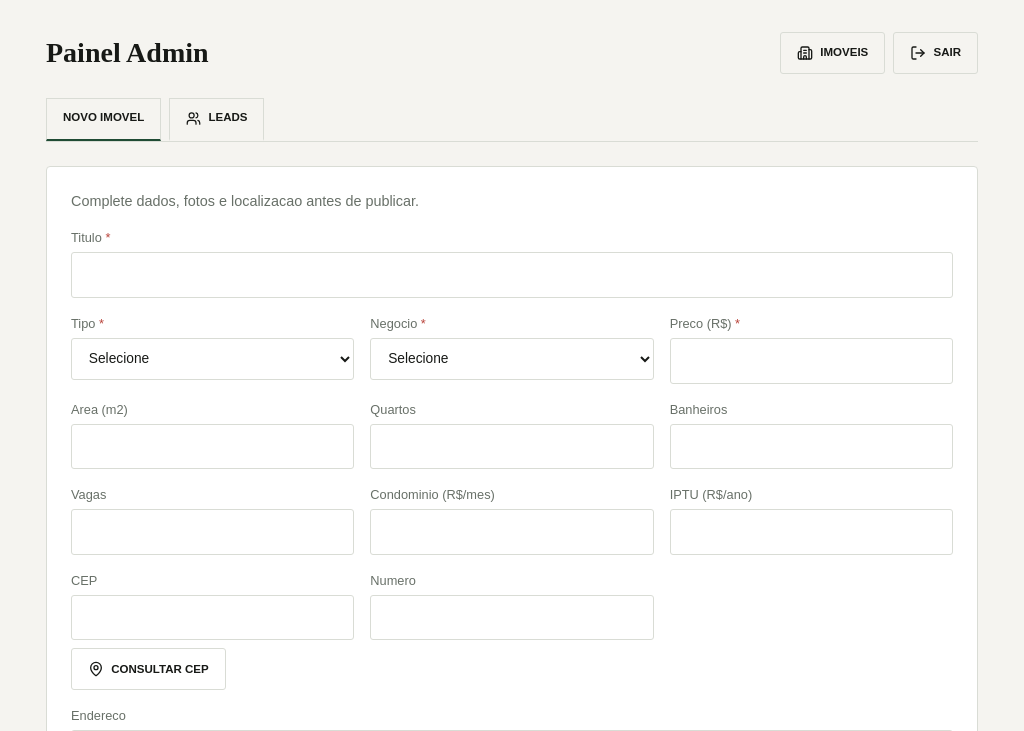
AdminPage › lista leads, pagina e volta para cadastro de imovel
Click the button "Leads". click: click(217, 119)
box: 169,98 -> 264,141
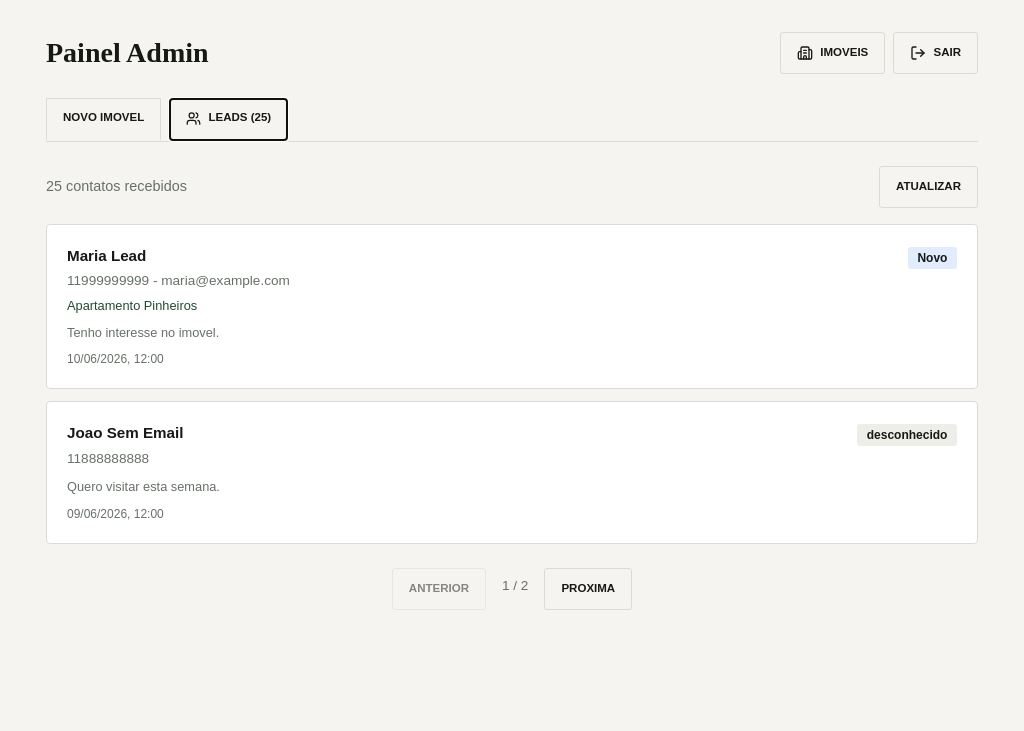
Check: the text "Maria Lead" is shown, box 67,247 -> 146,264
Check: the text "Apartamento Pinheiros" is shown, box 67,298 -> 197,313
Check: the text "Joao Sem Email" is shown, box 67,424 -> 184,441
Click the button "Proxima". click: click(588, 589)
box: 544,568 -> 632,610
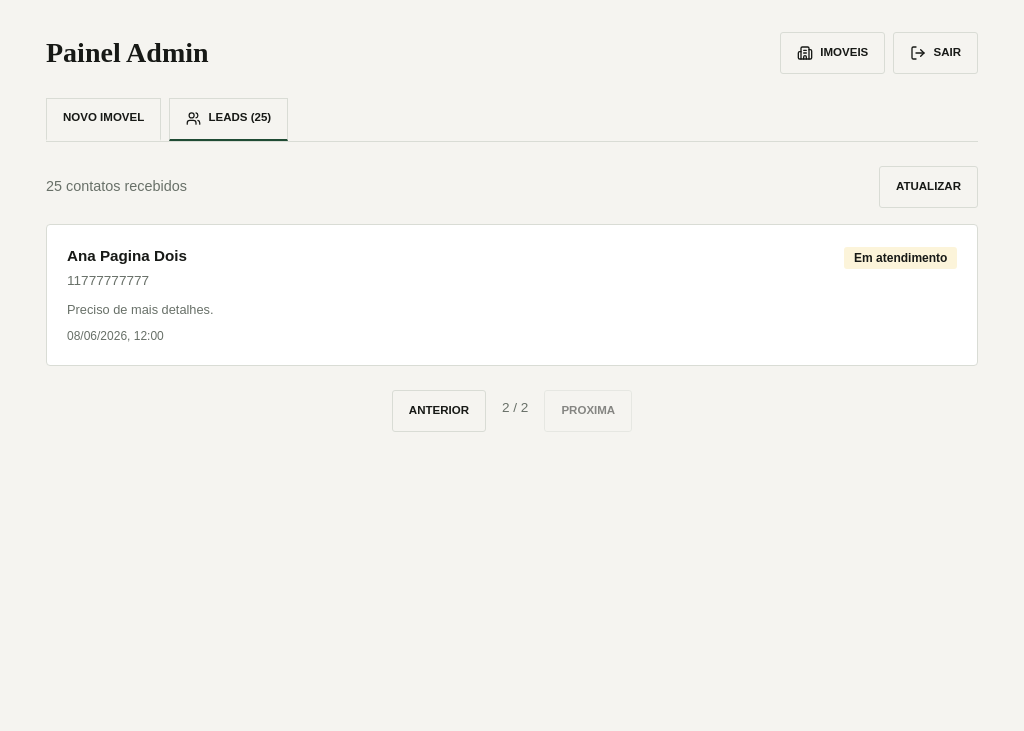
Check: the text "Ana Pagina Dois" is shown, box 67,247 -> 187,264
Check: the text "2 / 2" is shown, box 502,400 -> 528,415
Click the button "Anterior". click: click(439, 411)
box: 392,390 -> 486,432
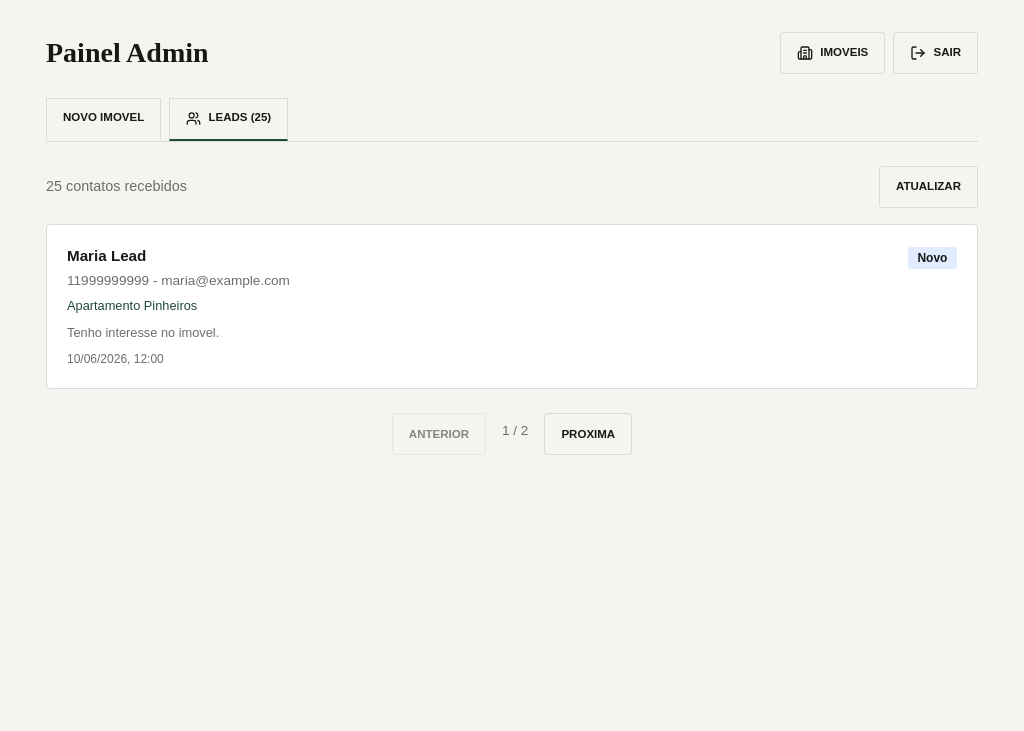
Check: the text "Maria Lead" is shown, box 67,247 -> 146,264
Check: the text "1 / 2" is shown, box 502,423 -> 528,438
Click the button "Novo Imovel". click: click(104, 119)
box: 46,98 -> 161,141
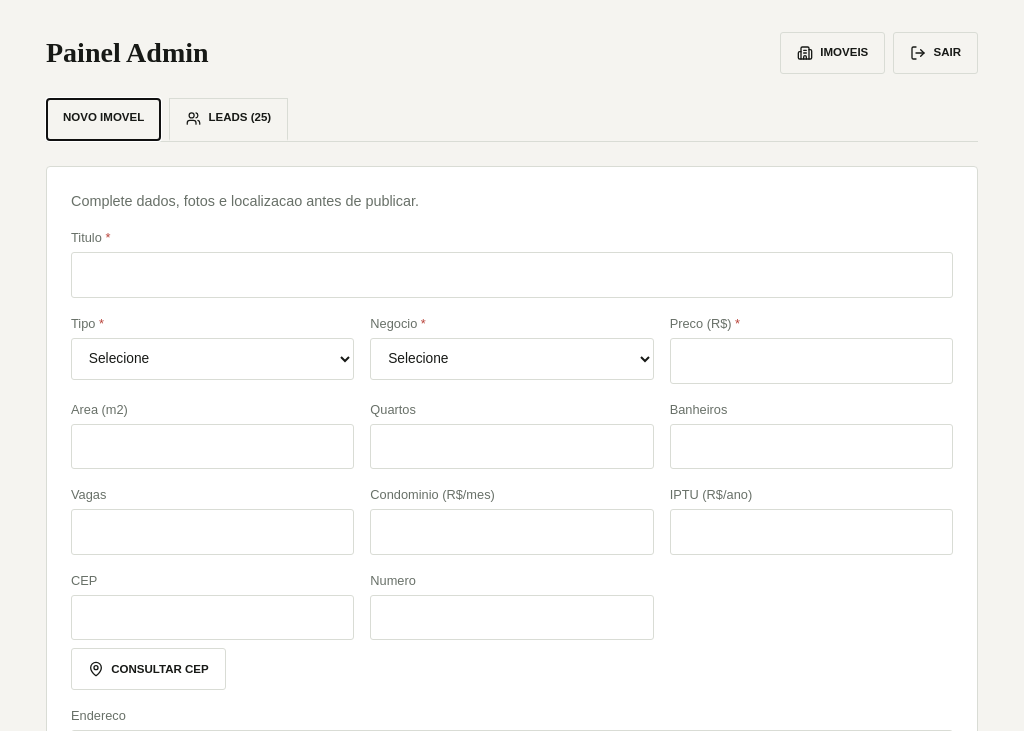
Check: the field labelled "Titulo *" is shown, box 71,252 -> 953,298
